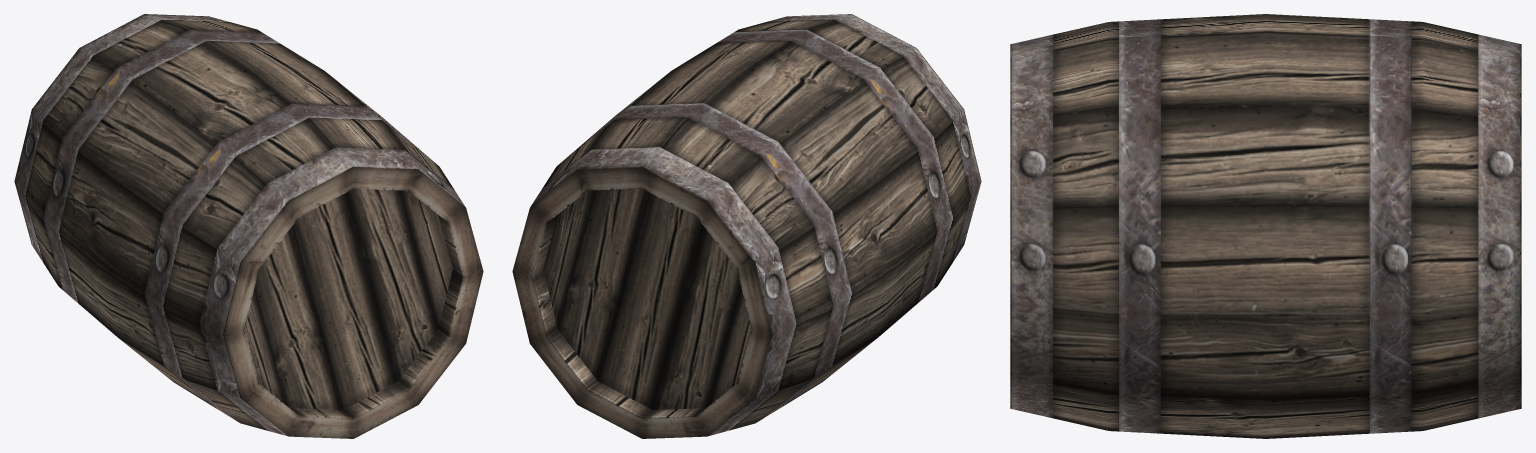
File: Barrel_a.fbx
The picture shows the model from 3 angles, left to right: view 1: azimuth 30°, elevation 25°; view 2: azimuth 150°, elevation 25°; view 3: azimuth 270°, elevation 25°; orthographic projection. The views are drawn at different scales.
Visible parts, largest first — view 1: Barrel_a; view 2: Barrel_a; view 3: Barrel_a.
Boxes of the visible parts, box(x1,y1,x2,y2) form: Barrel_a: box(14, 14, 483, 438); Barrel_a: box(512, 14, 981, 438); Barrel_a: box(1010, 14, 1521, 438).
Size of the model in its own units: 70.89 by 70.89 by 85.
